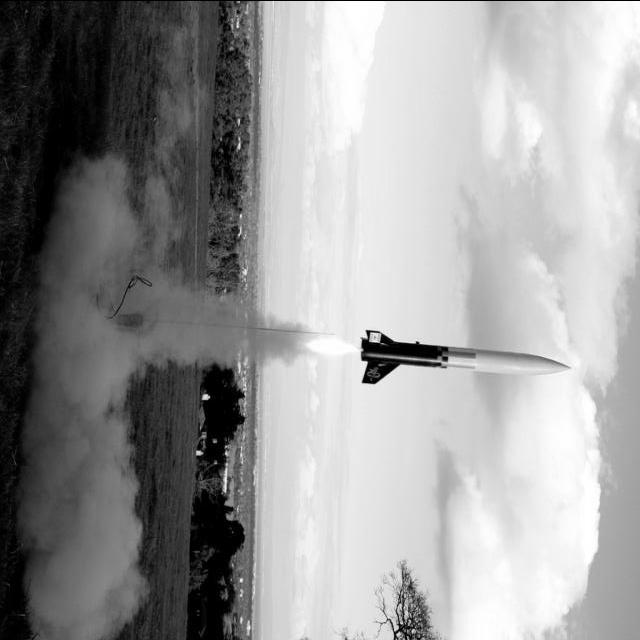missile: (359, 329, 572, 387)
